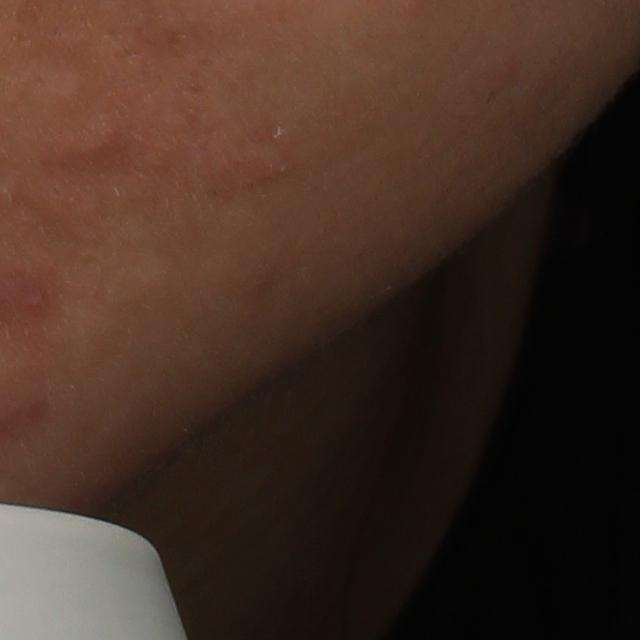hypertrophic_scar: (46, 117, 132, 167)
